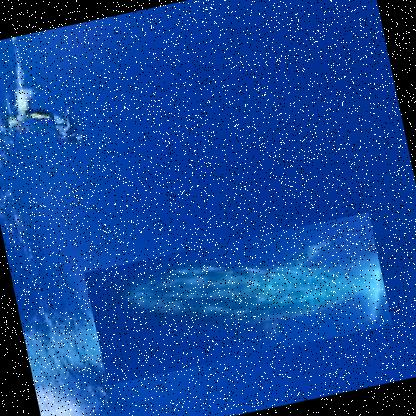blue_whale: (82, 211, 392, 385)
